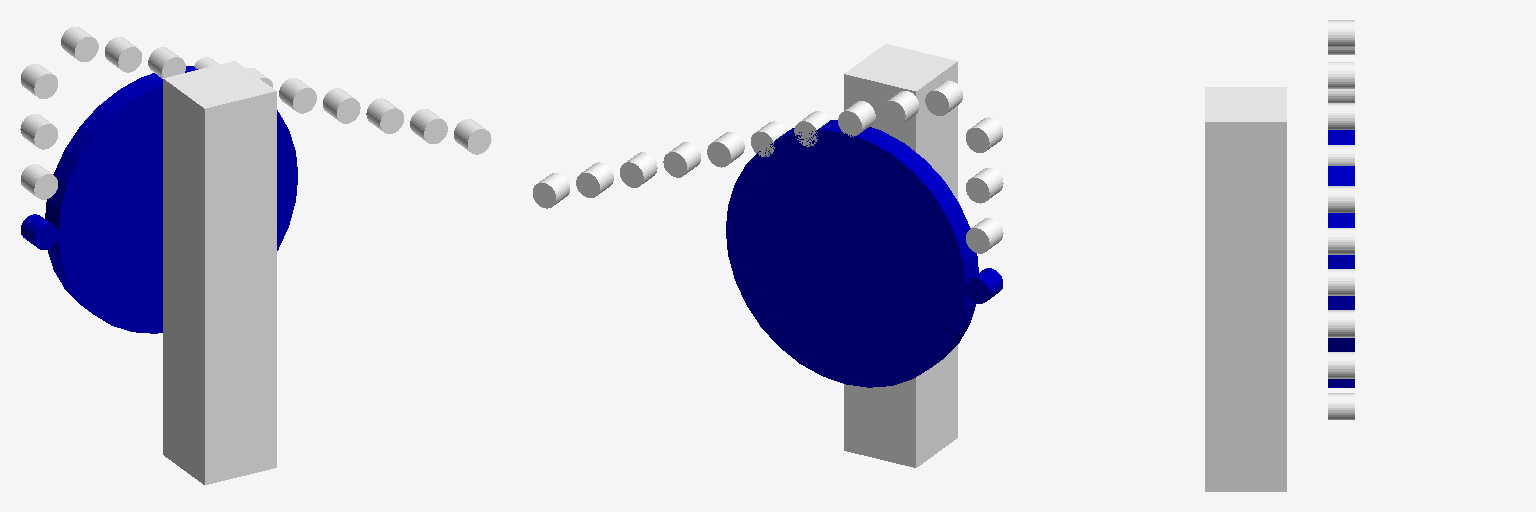
URDF robot description (myfirst):
<?xml version="1.0"?>
<!--https://valerolab.org/-->
<!--
Code used for PID control of an inverted pendulum actuated by strings.
-->
<robot name="myfirst">
  <material name="blue">
    <color rgba="0 0 0.8 1"/>
  </material>
  <material name="white">
    <color rgba="1 1 1 1"/>
  </material>
  <material name="other">
    <color rgba="1 0 0.8 1"/>
  </material>
  <velocity name="vel">
    <speed spd="50"/>
  </velocity>
  

  <link name="Base">
    <visual>
      <geometry>
        <box size="0.3 0.3 1.5"/>
      </geometry>
      <material name="white"/>
    </visual>
    <collision>
      <geometry>
        <box size="0.3 0.3 1.5"/>
      </geometry>
    </collision>
    <inertial>
      <mass value="100"/>
      <origin rpy="0 0 0" xyz="0 0 0"/>
      <inertia ixx="0" ixy="0.0" ixz="0.0" iyy="0" iyz="0.0" izz="0"/>
    </inertial>
  </link>

 <link name="pulley1">
    <visual>
      <geometry>
        <cylinder length=".1" radius=".5"/>
      </geometry>
      <material name="blue"/>
    </visual>
    <collision>
      <geometry>
        <cylinder length=".1" radius=".5"/>
      </geometry>
    </collision>
    <inertial>
      <mass value="2"/>
      <inertia ixx="0" ixy="0.0" ixz="0.0" iyy="0" iyz="0.0" izz="0"/>
    </inertial>
  </link>
  <joint name="Base_pulley1" type="revolute">
    <axis xyz="0 0 1"/>
    <parent link="Base"/>
    <child link="pulley1"/>
    <limit effort="0" lower="1" upper="0" velocity="50"/>
    <origin rpy="-1.57075 1.57075 0" xyz="0 .35 .15"/>
  </joint>

  <link name="tendon1_1">
    <visual>
      <geometry>
        <cylinder length=".1" radius=".05"/>
      </geometry>
      <material name="blue"/>
    </visual>
    <collision>
      <geometry>
        <cylinder length=".1" radius=".05"/>
      </geometry>
    </collision>
    <inertial>
      <mass value="10"/>
      <inertia ixx="0" ixy="0.0" ixz="0.0" iyy="0" iyz="0.0" izz="0"/>
    </inertial>
  </link>
  <joint name="pulley1_tendon1_1" type="revolute">
    <axis xyz="0 0 1"/>
    <parent link="pulley1"/>
    <child link="tendon1_1"/>
    <limit effort="0" lower="1" upper="0" velocity="50"/>
    <origin rpy="0 0 3.1416" xyz="0 .55 0"/>
  </joint>

  <link name="tendon1_2">
    <visual>
      <geometry>
        <cylinder length=".1" radius=".05"/>
      </geometry>
      <material name="white"/>
    </visual>
    <collision>
      <geometry>
        <cylinder length=".1" radius=".05"/>
      </geometry>
    </collision>
    <inertial>
      <mass value="10"/>
      <inertia ixx="0" ixy="0.0" ixz="0.0" iyy="0" iyz="0.0" izz="0"/>
    </inertial>
  </link>
  <joint name="tendon1_1_tendon1_2" type="revolute">
    <axis xyz="0 0 1"/>
    <parent link="tendon1_1"/>
    <child link="tendon1_2"/>
    <limit effort="0" lower="1" upper="0" velocity="50"/>
    <origin rpy="0 0 0" xyz=".2 0 0"/>
  </joint>

  <link name="tendon1_3">
    <visual>
      <geometry>
        <cylinder length=".1" radius=".05"/>
      </geometry>
      <material name="white"/>
    </visual>
    <collision>
      <geometry>
        <cylinder length=".1" radius=".05"/>
      </geometry>
    </collision>
    <inertial>
      <mass value="10"/>
      <inertia ixx="0" ixy="0.0" ixz="0.0" iyy="0" iyz="0.0" izz="0"/>
    </inertial>
  </link>
  <joint name="tendon1_2_tendon1_3" type="revolute">
    <axis xyz="0 0 1"/>
    <parent link="tendon1_2"/>
    <child link="tendon1_3"/>
    <limit effort="0" lower="1" upper="0" velocity="50"/>
    <origin rpy="0 0 0" xyz=".2 0 0"/>
  </joint>

  <link name="tendon1_4">
    <visual>
      <geometry>
        <cylinder length=".1" radius=".05"/>
      </geometry>
      <material name="white"/>
    </visual>
    <collision>
      <geometry>
        <cylinder length=".1" radius=".05"/>
      </geometry>
    </collision>
    <inertial>
      <mass value="10"/>
      <inertia ixx="0" ixy="0.0" ixz="0.0" iyy="0" iyz="0.0" izz="0"/>
    </inertial>
  </link>
  <joint name="tendon1_3_tendon1_4" type="revolute">
    <axis xyz="0 0 1"/>
    <parent link="tendon1_3"/>
    <child link="tendon1_4"/>
    <limit effort="0" lower="1" upper="0" velocity="50"/>
    <origin rpy="0 0 1" xyz=".2 0 0"/>
  </joint>

  <link name="tendon1_5">
    <visual>
      <geometry>
        <cylinder length=".1" radius=".05"/>
      </geometry>
      <material name="white"/>
    </visual>
    <collision>
      <geometry>
        <cylinder length=".1" radius=".05"/>
      </geometry>
    </collision>
    <inertial>
      <mass value="10"/>
      <inertia ixx="0" ixy="0.0" ixz="0.0" iyy="0" iyz="0.0" izz="0"/>
    </inertial>
  </link>
  <joint name="tendon1_4_tendon1_5" type="revolute">
    <axis xyz="0 0 1"/>
    <parent link="tendon1_4"/>
    <child link="tendon1_5"/>
    <limit effort="0" lower="1" upper="0" velocity="50"/>
    <origin rpy="0 0 1" xyz=".2 0 0"/>
  </joint>

  <link name="tendon1_6">
    <visual>
      <geometry>
        <cylinder length=".1" radius=".05"/>
      </geometry>
      <material name="white"/>
    </visual>
    <collision>
      <geometry>
        <cylinder length=".1" radius=".05"/>
      </geometry>
    </collision>
    <inertial>
      <mass value="10"/>
      <inertia ixx="0" ixy="0.0" ixz="0.0" iyy="0" iyz="0.0" izz="0"/>
    </inertial>
  </link>
  <joint name="tendon1_5_tendon1_6" type="revolute">
    <axis xyz="0 0 1"/>
    <parent link="tendon1_5"/>
    <child link="tendon1_6"/>
    <limit effort="0" lower="1" upper="0" velocity="50"/>
    <origin rpy="0 0 0" xyz=".2 0 0"/>
  </joint>

  <link name="tendon1_7">
    <visual>
      <geometry>
        <cylinder length=".1" radius=".05"/>
      </geometry>
      <material name="white"/>
    </visual>
    <collision>
      <geometry>
        <cylinder length=".1" radius=".05"/>
      </geometry>
    </collision>
    <inertial>
      <mass value="10"/>
      <inertia ixx="0" ixy="0.0" ixz="0.0" iyy="0" iyz="0.0" izz="0"/>
    </inertial>
  </link>
  <joint name="tendon1_6_tendon1_7" type="revolute">
    <axis xyz="0 0 1"/>
    <parent link="tendon1_6"/>
    <child link="tendon1_7"/>
    <limit effort="0" lower="1" upper="0" velocity="50"/>
    <origin rpy="0 0 0" xyz=".2 0 0"/>
  </joint>

  <link name="tendon1_8">
    <visual>
      <geometry>
        <cylinder length=".1" radius=".05"/>
      </geometry>
      <material name="white"/>
    </visual>
    <collision>
      <geometry>
        <cylinder length=".1" radius=".05"/>
      </geometry>
    </collision>
    <inertial>
      <mass value="10"/>
      <inertia ixx="0" ixy="0.0" ixz="0.0" iyy="0" iyz="0.0" izz="0"/>
    </inertial>
  </link>
  <joint name="tendon1_7_tendon1_8" type="revolute">
    <axis xyz="0 0 1"/>
    <parent link="tendon1_7"/>
    <child link="tendon1_8"/>
    <limit effort="0" lower="1" upper="0" velocity="50"/>
    <origin rpy="0 0 0" xyz=".2 0 0"/>
  </joint>

  <link name="tendon1_9">
    <visual>
      <geometry>
        <cylinder length=".1" radius=".05"/>
      </geometry>
      <material name="white"/>
    </visual>
    <collision>
      <geometry>
        <cylinder length=".1" radius=".05"/>
      </geometry>
    </collision>
    <inertial>
      <mass value="10"/>
      <inertia ixx="0" ixy="0.0" ixz="0.0" iyy="0" iyz="0.0" izz="0"/>
    </inertial>
  </link>
  <joint name="tendon1_8_tendon1_9" type="revolute">
    <axis xyz="0 0 1"/>
    <parent link="tendon1_8"/>
    <child link="tendon1_9"/>
    <limit effort="0" lower="1" upper="0" velocity="50"/>
    <origin rpy="0 0 0" xyz=".2 0 0"/>
  </joint>

  <link name="tendon1_10">
    <visual>
      <geometry>
        <cylinder length=".1" radius=".05"/>
      </geometry>
      <material name="white"/>
    </visual>
    <collision>
      <geometry>
        <cylinder length=".1" radius=".05"/>
      </geometry>
    </collision>
    <inertial>
      <mass value="10"/>
      <inertia ixx="0" ixy="0.0" ixz="0.0" iyy="0" iyz="0.0" izz="0"/>
    </inertial>
  </link>
  <joint name="tendon1_9_tendon1_10" type="revolute">
    <axis xyz="0 0 1"/>
    <parent link="tendon1_9"/>
    <child link="tendon1_10"/>
    <limit effort="0" lower="1" upper="0" velocity="50"/>
    <origin rpy="0 0 0" xyz=".2 0 0"/>
  </joint>

  <link name="tendon1_11">
    <visual>
      <geometry>
        <cylinder length=".1" radius=".05"/>
      </geometry>
      <material name="white"/>
    </visual>
    <collision>
      <geometry>
        <cylinder length=".1" radius=".05"/>
      </geometry>
    </collision>
    <inertial>
      <mass value="10"/>
      <inertia ixx="0" ixy="0.0" ixz="0.0" iyy="0" iyz="0.0" izz="0"/>
    </inertial>
  </link>
  <joint name="tendon1_10_tendon1_11" type="revolute">
    <axis xyz="0 0 1"/>
    <parent link="tendon1_10"/>
    <child link="tendon1_11"/>
    <limit effort="0" lower="1" upper="0" velocity="50"/>
    <origin rpy="0 0 0" xyz=".2 0 0"/>
  </joint>

  <link name="tendon1_12">
    <visual>
      <geometry>
        <cylinder length=".1" radius=".05"/>
      </geometry>
      <material name="white"/>
    </visual>
    <collision>
      <geometry>
        <cylinder length=".1" radius=".05"/>
      </geometry>
    </collision>
    <inertial>
      <mass value="10"/>
      <inertia ixx="0" ixy="0.0" ixz="0.0" iyy="0" iyz="0.0" izz="0"/>
    </inertial>
  </link>
  <joint name="tendon1_11_tendon1_12" type="revolute">
    <axis xyz="0 0 1"/>
    <parent link="tendon1_11"/>
    <child link="tendon1_12"/>
    <limit effort="0" lower="1" upper="0" velocity="50"/>
    <origin rpy="0 0 0" xyz=".2 0 0"/>
  </joint>

  <link name="tendon1_13">
    <visual>
      <geometry>
        <cylinder length=".1" radius=".05"/>
      </geometry>
      <material name="white"/>
    </visual>
    <collision>
      <geometry>
        <cylinder length=".1" radius=".05"/>
      </geometry>
    </collision>
    <inertial>
      <mass value="10"/>
      <inertia ixx="0" ixy="0.0" ixz="0.0" iyy="0" iyz="0.0" izz="0"/>
    </inertial>
  </link>
  <joint name="tendon1_12_tendon1_13" type="revolute">
    <axis xyz="0 0 1"/>
    <parent link="tendon1_12"/>
    <child link="tendon1_13"/>
    <limit effort="0" lower="1" upper="0" velocity="50"/>
    <origin rpy="0 0 0" xyz=".2 0 0"/>
  </joint>

  <link name="tendon1_14">
    <visual>
      <geometry>
        <cylinder length=".1" radius=".05"/>
      </geometry>
      <material name="white"/>
    </visual>
    <collision>
      <geometry>
        <cylinder length=".2" radius=".05"/>
      </geometry>
    </collision>
    <inertial>
      <mass value="10"/>
      <inertia ixx="0" ixy="0.0" ixz="0.0" iyy="0" iyz="0.0" izz="0"/>
    </inertial>
  </link>
  <joint name="tendon1_13_tendon1_14" type="revolute">
    <axis xyz="0 0 1"/>
    <parent link="tendon1_13"/>
    <child link="tendon1_14"/>
    <limit effort="0" lower="1" upper="0" velocity="50"/>
    <origin rpy="0 0 0" xyz=".2 0 0"/>
  </joint>

</robot>

--- What the picture shows (computed from the rendered views, not written in the file) ---
Views: 3 orthographic renders of the robot side by side, from view 1: azimuth 30°, elevation 25°; view 2: azimuth 150°, elevation 25°; view 3: azimuth 270°, elevation 25°.
Robot: myfirst — 16 links, 15 joints (15 revolute); root link Base; default pose: all joints at 0.
Links seen in each view (by area): view 1: Base, pulley1, tendon1_10, tendon1_2, tendon1_3, tendon1_6, tendon1_11, tendon1_14, tendon1_12, tendon1_5, tendon1_13, tendon1_1 (+2 smaller); view 2: pulley1, Base, tendon1_2, tendon1_12, tendon1_4, tendon1_5, tendon1_11, tendon1_6, tendon1_10, tendon1_13, tendon1_14, tendon1_3 (+4 smaller); view 3: Base, pulley1, tendon1_5, tendon1_12, tendon1_6, tendon1_7, tendon1_9, tendon1_10, tendon1_11, tendon1_13, tendon1_14, tendon1_8.
Boxes of the visible links, x1,y1,x2,y2 form: Base: (163,61,276,484); pulley1: (45,66,297,333); tendon1_10: (279,78,316,113); tendon1_2: (21,164,57,199); tendon1_3: (20,114,57,149); tendon1_6: (105,37,141,72); tendon1_11: (323,88,360,123); tendon1_14: (454,119,491,154); tendon1_12: (366,98,403,133); tendon1_5: (61,27,98,61); tendon1_13: (410,109,447,143); tendon1_1: (21,214,57,249); pulley1: (726,120,978,387); Base: (844,44,957,467); tendon1_2: (966,218,1003,253); tendon1_12: (620,152,657,187); tendon1_4: (966,117,1002,152); tendon1_5: (925,80,962,115); tendon1_11: (663,142,700,177); tendon1_6: (882,91,918,126); tendon1_10: (707,132,744,167); tendon1_13: (576,162,613,197); tendon1_14: (533,173,569,208); tendon1_3: (966,168,1003,203); Base: (1205,87,1286,491); pulley1: (1328,130,1354,387); tendon1_5: (1328,20,1354,47); tendon1_12: (1328,310,1354,337); tendon1_6: (1328,62,1354,88); tendon1_7: (1328,103,1354,129); tendon1_9: (1328,186,1354,212); tendon1_10: (1328,228,1354,254); tendon1_11: (1328,269,1354,295); tendon1_13: (1328,352,1354,378); tendon1_14: (1328,393,1354,419); tendon1_8: (1328,145,1354,165).
Bounding box of the posed robot: 1.91 × 0.55 × 1.66 m (x, y, z).
Geometry: primitives only (box / cylinder / sphere), no mesh files.
